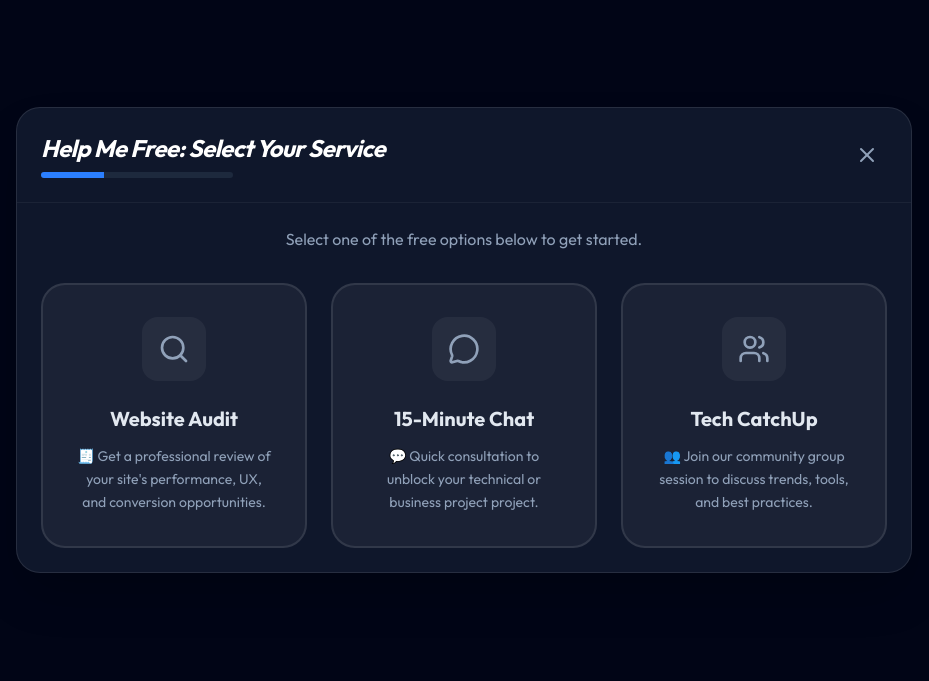
Test case: HelpMeFreeModal Component › allows going back from form to service selection
This screenshot has width=929, height=681.
To Step 2
Step 1. Click the heading "Website Audit" → (174, 419), box 110,405 -> 238,433
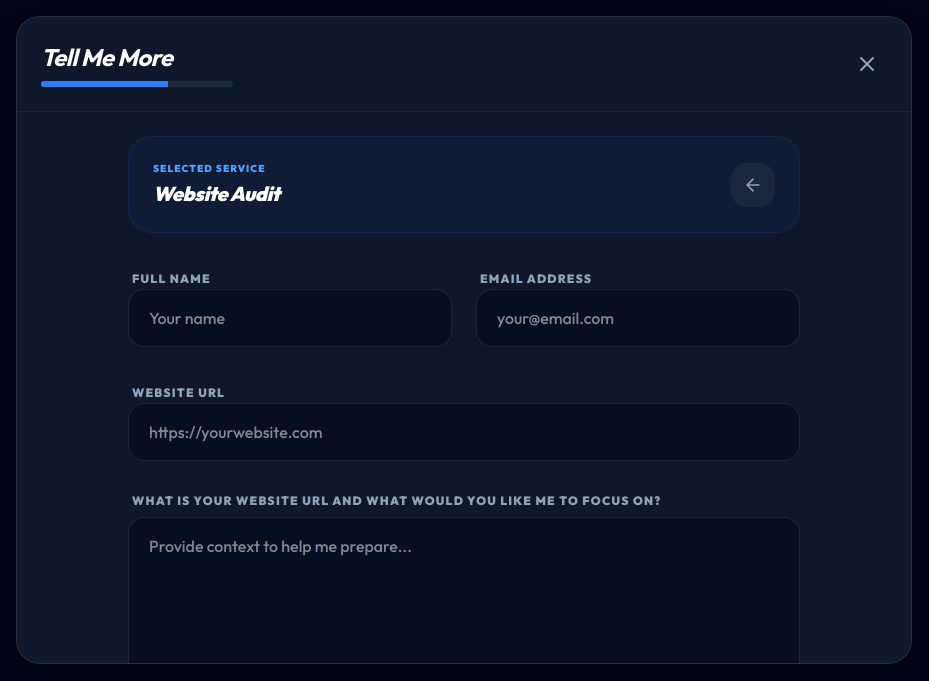
Expected: the heading "Tell Me More" is shown, 41,42 -> 172,72
Back to Step 1
Step 2. Click the button named "Back to Services" → (753, 184), box 731,162 -> 775,206
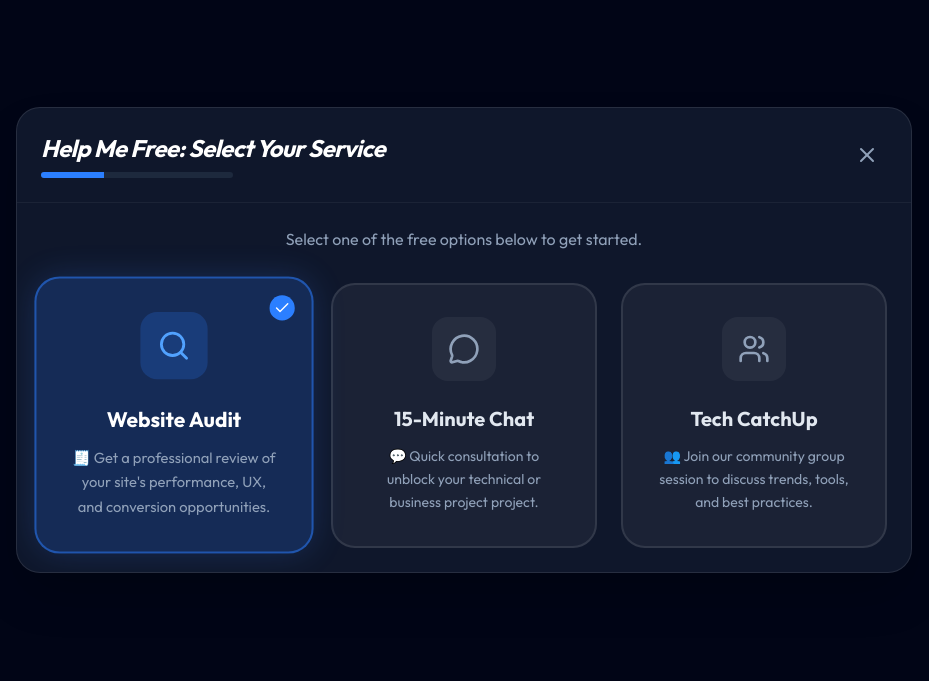
Expected: the heading "Help Me Free: Select Your Service" is shown, 41,132 -> 385,164
